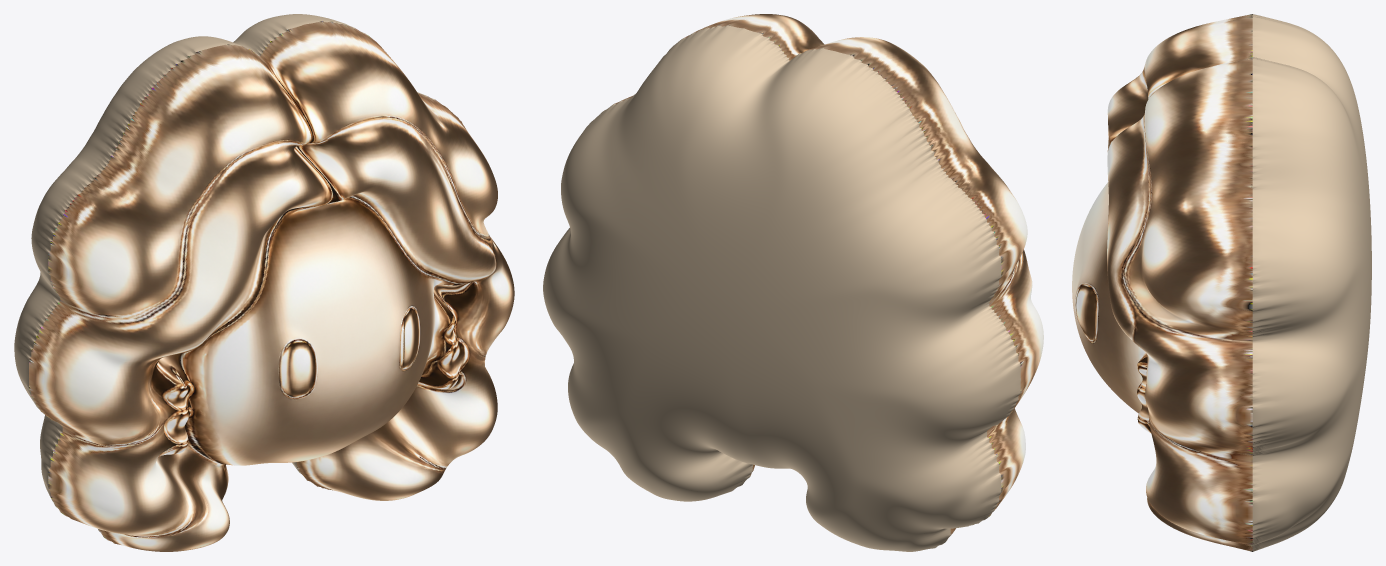
File: tina-avatar-reference.glb
The picture shows the model from 3 angles, left to right: view 1: azimuth 30°, elevation 25°; view 2: azimuth 150°, elevation 25°; view 3: azimuth 270°, elevation 25°; orthographic projection. The views are drawn at different scales.
Parts seen in each view (by area): view 1: Tina — reference-matched champagne portrait; view 2: Tina — reference-matched champagne portrait; view 3: Tina — reference-matched champagne portrait.
Boxes of the visible parts, <box> form: Tina — reference-matched champagne portrait: <box>14,14,514,551</box>; Tina — reference-matched champagne portrait: <box>543,14,1043,551</box>; Tina — reference-matched champagne portrait: <box>1072,14,1371,551</box>.
Bounding box in the file's own units: 2.45 × 2.42 × 1.46.
2 materials, 1 textured.
